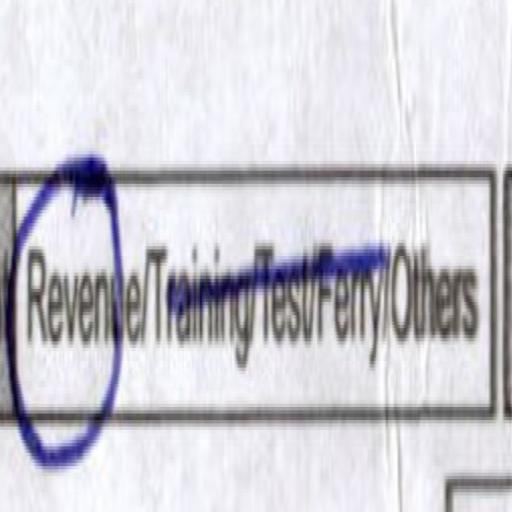check: (20, 131, 142, 512)
